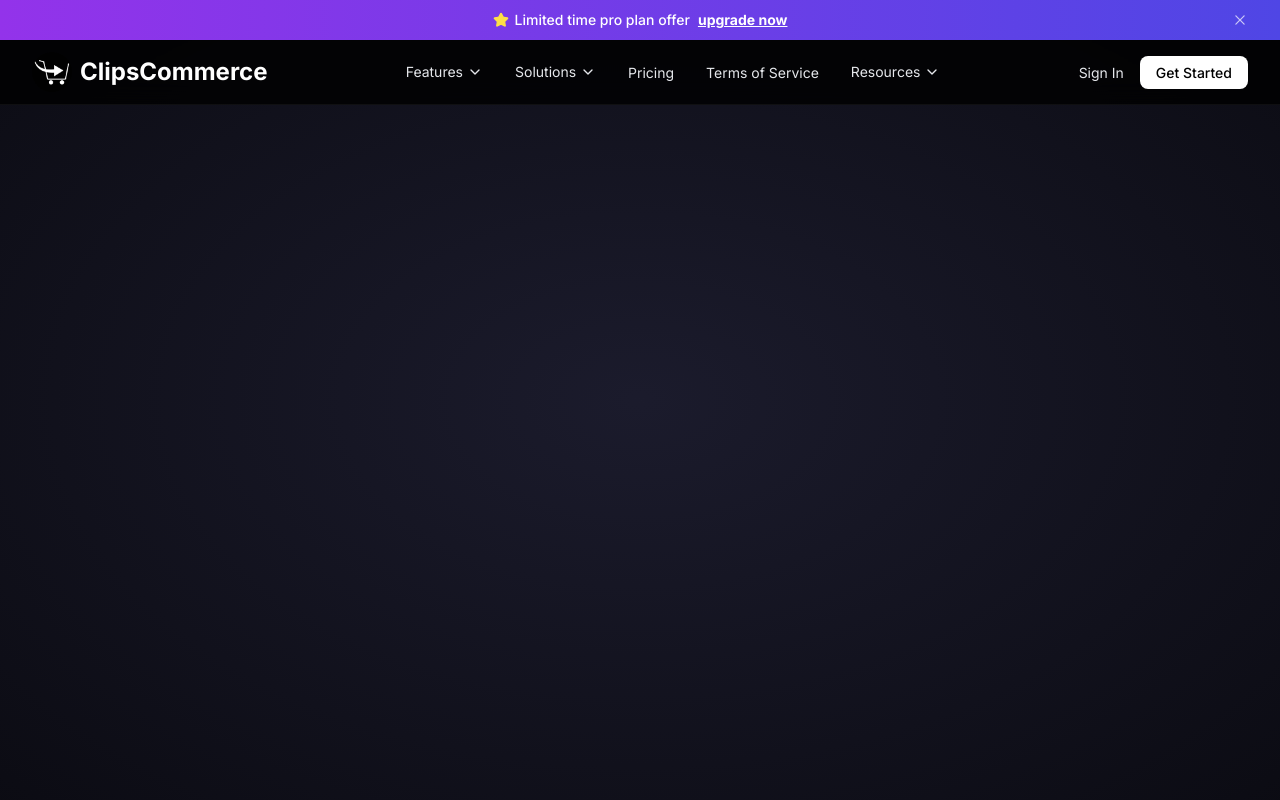
Test: NavigationBar › Dropdown Functionality › should toggle dropdowns correctly
Expected: the text "Content Optimization" is not shown
# Click to open
Click the button "Features".
click(444, 72)  # box [406,62,483,82]
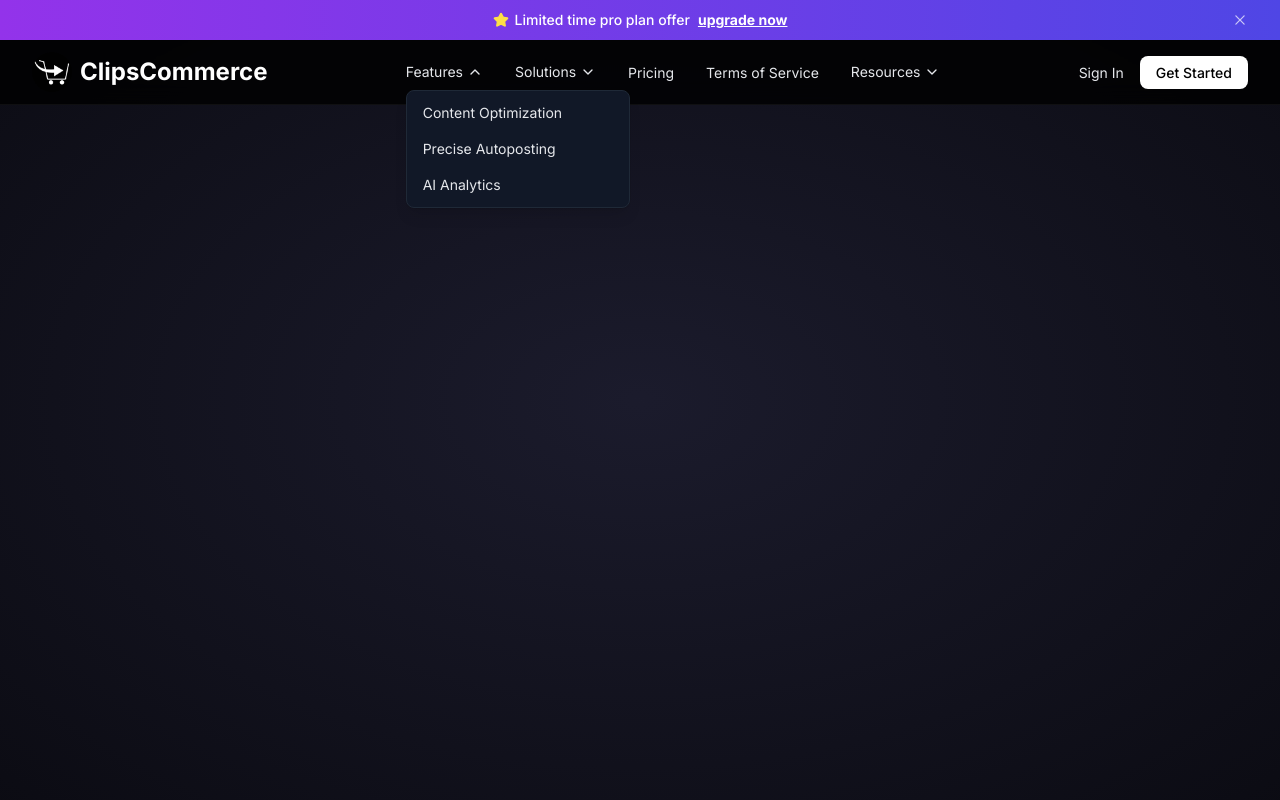
Now the link "Content Optimization" is shown, box [423,104,562,121]
# Click again to close
Click the button "Features".
click(444, 72)  # box [406,62,483,82]
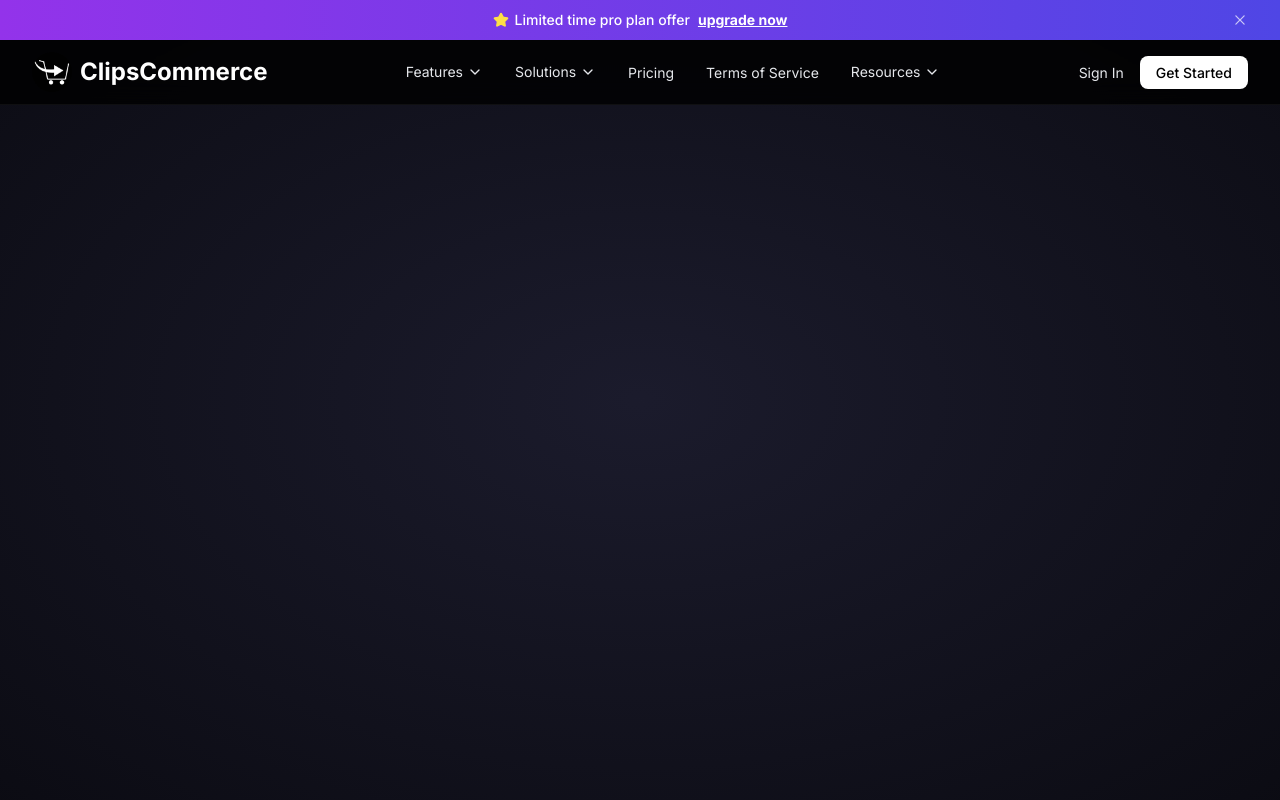
Now the link "Content Optimization" is gone
